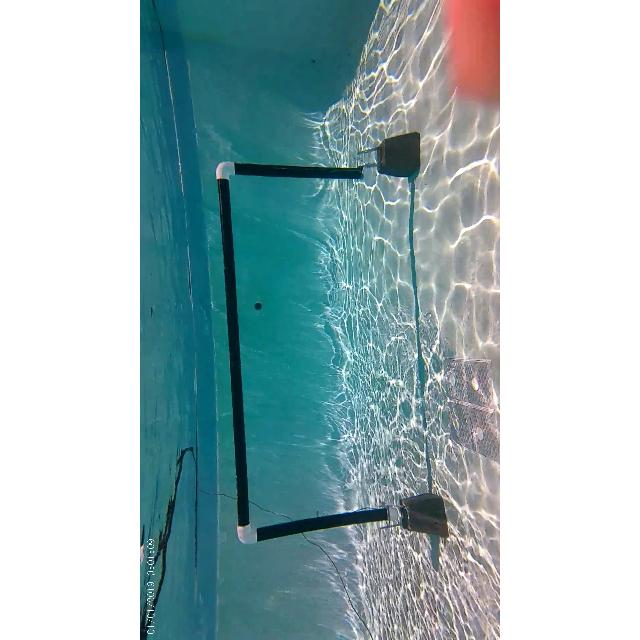prequal gate: (213, 162, 395, 546)
prequal gate leg l: (232, 508, 448, 554)
prequal gate leg r: (214, 144, 436, 188)
